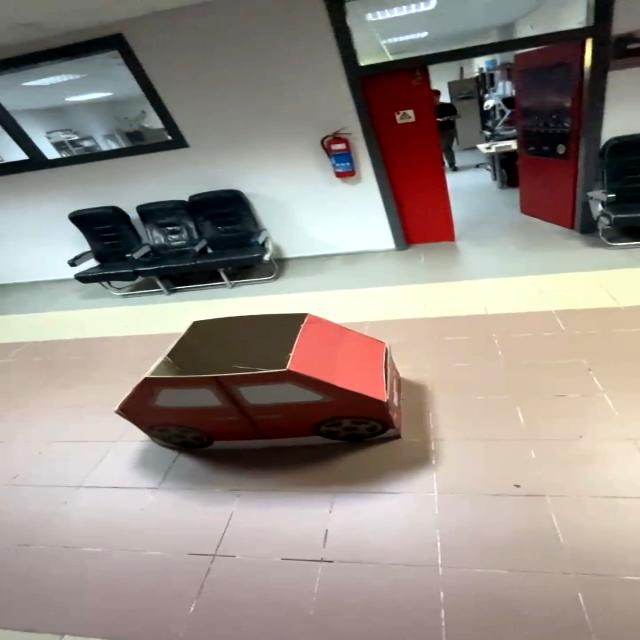red_car: (80, 291, 433, 498)
